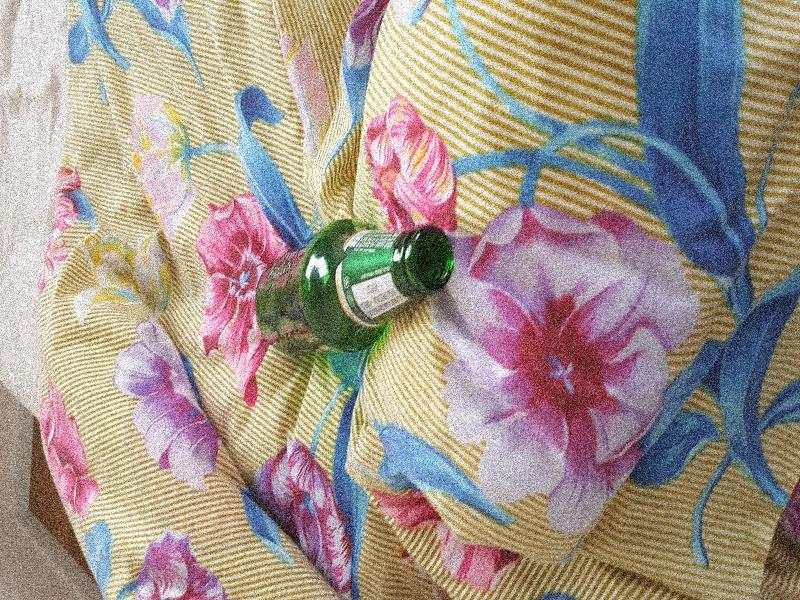Beer: (256, 220, 453, 348)
